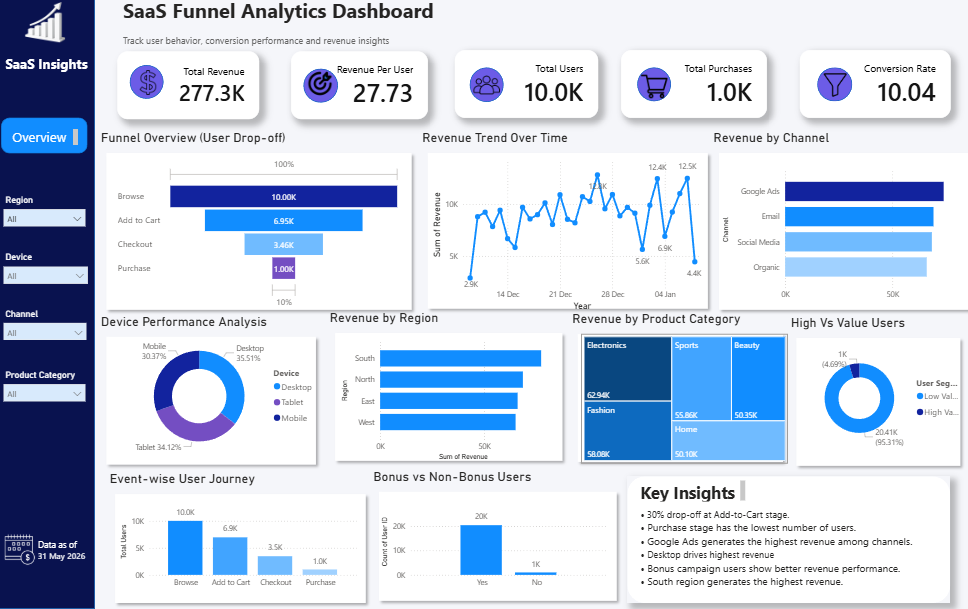

The page's visual inventory and layout, read from the dashboard file:
{"tool":"powerbi","page":{"name":"Page 1","canvas":[1607,1240],"ordinal":0},"visuals":[{"type":"shape","box":[10,0,156,1022],"z":0},{"type":"textbox","box":[205.5,38.2,529.1,94.5],"z":1000},{"type":"slicer","fields":{"Values":["clean_funnel_data.Region"]},"box":[10.9,354.5,150.9,69.1],"z":2000},{"type":"slicer","fields":{"Values":["clean_funnel_data.Device"]},"box":[9.1,445.5,154.5,70.9],"z":3000},{"type":"slicer","fields":{"Values":["clean_funnel_data.Channel"]},"box":[9.1,536.4,152.7,69.1],"z":4000},{"type":"slicer","fields":{"Values":["clean_funnel_data.Product Category"]},"box":[10.9,634.5,150.9,70.9],"z":5000},{"type":"cardVisual","fields":{"Data":["clean_funnel_data.Total Revenue"]},"box":[202.3,129.9,227.6,109],"z":6000},{"type":"cardVisual","fields":{"Data":["clean_funnel_data.Revenue Per User"]},"box":[480,129,219.5,109],"z":7000},{"type":"shape","box":[223,152.9,54,54],"z":8000},{"type":"image","box":[229.9,150.6,42.5,59.8],"z":9000},{"type":"shape","box":[500,157.5,55.2,54],"z":10000},{"type":"image","box":[769,151,44,60],"z":11000},{"type":"cardVisual","fields":{"Data":["clean_funnel_data.Total Users"]},"box":[742.5,127.6,229.9,109],"z":12000},{"type":"shape","box":[765.5,156.3,54,55.2],"z":13000},{"type":"image","box":[771.3,154,42.5,59.8],"z":14000},{"type":"cardVisual","fields":{"Data":["clean_funnel_data.Total Purchases"]},"box":[1008,128.7,233.3,109],"z":15000},{"type":"shape","box":[1033.3,156.3,54,54],"z":16000},{"type":"image","box":[504.6,152.9,44.8,59.8],"z":17000},{"type":"cardVisual","fields":{"Data":["clean_funnel_data.Conversion Rate"]},"box":[1293.1,127.6,241.4,109],"z":18000},{"type":"shape","box":[1322,156,56,54],"z":19000},{"type":"image","box":[1039.1,155.2,42.5,60.9],"z":20000},{"type":"image","box":[1331,158.6,37.9,51.7],"z":21000},{"type":"shape","title":"Funnel Overview (User Drop-off)","box":[176.4,256.4,505.5,296.4],"z":22000},{"type":"funnel","fields":{"Category":["clean_funnel_data.Event"],"Y":["CountNonNull(clean_funnel_data.User ID)"]},"box":[197.7,293.1,462.1,251.7],"z":23000},{"type":"shape","title":"Revenue Trend Over Time","box":[689.1,256.4,465.5,294.5],"z":24000},{"type":"lineChart","fields":{"Category":["clean_funnel_data.Event Time.Variation.Date Hierarchy.Year","clean_funnel_data.Event Time.Variation.Date Hierarchy.Quarter","clean_funnel_data.Event Time.Variation.Date Hierarchy.Month","clean_funnel_data.Event Time.Variation.Date Hierarchy.Day"],"Y":["Sum(clean_funnel_data.Revenue)"]},"box":[700,293.1,448.3,257.5],"z":25000},{"type":"shape","title":"Revenue by Channel","box":[1156.4,256.4,420,296.4],"z":26000},{"type":"clusteredBarChart","fields":{"Category":["clean_funnel_data.Channel"],"Y":["Sum(clean_funnel_data.Revenue)"]},"box":[1165.5,309.1,394.5,227.3],"z":27000},{"type":"shape","title":"Device Performance Analysis","box":[176.9,550,352.6,250],"z":28000},{"type":"donutChart","fields":{"Category":["clean_funnel_data.Device"],"Y":["Sum(clean_funnel_data.Revenue)"]},"box":[210.3,567.6,317.6,227.9],"z":29000},{"type":"shape","title":"Revenue by Region","box":[541,544.9,380.8,250],"z":30000},{"type":"shape","title":"Revenue by Product Category","box":[930,546,346,250],"z":32000},{"type":"shape","title":"High Vs Value Users","box":[1279.5,551.3,279.5,250],"z":34000},{"type":"donutChart","fields":{"Category":["clean_funnel_data.User Segment"],"Y":["CountNonNull(clean_funnel_data.User ID)"]},"box":[1293.6,582.1,269.2,206.4],"z":35000},{"type":"shape","title":"Event-wise User Journey","box":[189,801,418,220],"z":36000},{"type":"clusteredColumnChart","fields":{"Category":["clean_funnel_data.Event"],"Y":["clean_funnel_data.Total Users"]},"box":[202,848,388,150],"z":37000},{"type":"shape","title":"Bonus vs Non-Bonus Users","box":[611,797,397.5,220],"z":38000},{"type":"clusteredColumnChart","fields":{"Category":["clean_funnel_data.Bonus Flag"],"Y":["CountNonNull(clean_funnel_data.User ID)"]},"box":[620,848,372,150],"z":39000},{"type":"shape","box":[1017,809,517,203],"z":41000},{"type":"textbox","box":[1033.3,811.1,177.8,43.2],"z":42000},{"type":"textbox","box":[1033.3,853.8,491,150],"z":43000},{"type":"image","box":[9,39.7,156.4,89.7],"z":44000},{"type":"textbox","box":[17.9,129.5,147.4,60.3],"z":44001},{"type":"shape","box":[15.4,235.9,138.5,57.7],"z":44002},{"type":"textbox","box":[28.2,248,116,37.2],"z":44003},{"type":"image","box":[0,896,92,62],"z":44005},{"type":"textbox","box":[70,904,90,74],"z":44006},{"type":"clusteredBarChart","fields":{"Category":["clean_funnel_data.Region"],"Y":["Sum(clean_funnel_data.Revenue)"]},"box":[556,582,348,208],"z":44007},{"type":"treemap","fields":{"Group":["clean_funnel_data.Product Category"],"Values":["Sum(clean_funnel_data.Revenue)"]},"box":[944,582,332,208],"z":44008}]}

Visuals, with their boxes on the page's 1607x1240 design canvas (x1, y1, x2, y2). These are canvas units, not pixel positions in the 968x609 screenshot, which may show the page scaled, cropped or inside an application window:
shape: (10, 0, 166, 1022)
textbox: (206, 38, 735, 133)
slicer - clean_funnel_data.Region: (11, 354, 162, 424)
slicer - clean_funnel_data.Device: (9, 446, 164, 516)
slicer - clean_funnel_data.Channel: (9, 536, 162, 606)
slicer - clean_funnel_data.Product Category: (11, 634, 162, 705)
cardVisual - clean_funnel_data.Total Revenue: (202, 130, 430, 239)
cardVisual - clean_funnel_data.Revenue Per User: (480, 129, 700, 238)
shape: (223, 153, 277, 207)
image: (230, 151, 272, 210)
shape: (500, 158, 555, 212)
image: (769, 151, 813, 211)
cardVisual - clean_funnel_data.Total Users: (742, 128, 972, 237)
shape: (766, 156, 820, 212)
image: (771, 154, 814, 214)
cardVisual - clean_funnel_data.Total Purchases: (1008, 129, 1241, 238)
shape: (1033, 156, 1087, 210)
image: (505, 153, 549, 213)
cardVisual - clean_funnel_data.Conversion Rate: (1293, 128, 1534, 237)
shape: (1322, 156, 1378, 210)
image: (1039, 155, 1082, 216)
image: (1331, 159, 1369, 210)
"Funnel Overview (User Drop-off)" shape: (176, 256, 682, 553)
funnel - clean_funnel_data.Event x CountNonNull(clean_funnel_data.User ID): (198, 293, 660, 545)
"Revenue Trend Over Time" shape: (689, 256, 1155, 551)
lineChart - clean_funnel_data.Event Time.Variation.Date Hierarchy.Year x clean_funnel_data.Event Time.Variation.Date Hierarchy.Quarter: (700, 293, 1148, 551)
"Revenue by Channel" shape: (1156, 256, 1576, 553)
clusteredBarChart - clean_funnel_data.Channel x Sum(clean_funnel_data.Revenue): (1166, 309, 1560, 536)
"Device Performance Analysis" shape: (177, 550, 530, 800)
donutChart - clean_funnel_data.Device x Sum(clean_funnel_data.Revenue): (210, 568, 528, 796)
"Revenue by Region" shape: (541, 545, 922, 795)
"Revenue by Product Category" shape: (930, 546, 1276, 796)
"High Vs Value Users" shape: (1280, 551, 1559, 801)
donutChart - clean_funnel_data.User Segment x CountNonNull(clean_funnel_data.User ID): (1294, 582, 1563, 788)
"Event-wise User Journey" shape: (189, 801, 607, 1021)
clusteredColumnChart - clean_funnel_data.Event x clean_funnel_data.Total Users: (202, 848, 590, 998)
"Bonus vs Non-Bonus Users" shape: (611, 797, 1008, 1017)
clusteredColumnChart - clean_funnel_data.Bonus Flag x CountNonNull(clean_funnel_data.User ID): (620, 848, 992, 998)
shape: (1017, 809, 1534, 1012)
textbox: (1033, 811, 1211, 854)
textbox: (1033, 854, 1524, 1004)
image: (9, 40, 165, 129)
textbox: (18, 130, 165, 190)
shape: (15, 236, 154, 294)
textbox: (28, 248, 144, 285)
image: (0, 896, 92, 958)
textbox: (70, 904, 160, 978)
clusteredBarChart - clean_funnel_data.Region x Sum(clean_funnel_data.Revenue): (556, 582, 904, 790)
treemap - clean_funnel_data.Product Category x Sum(clean_funnel_data.Revenue): (944, 582, 1276, 790)
